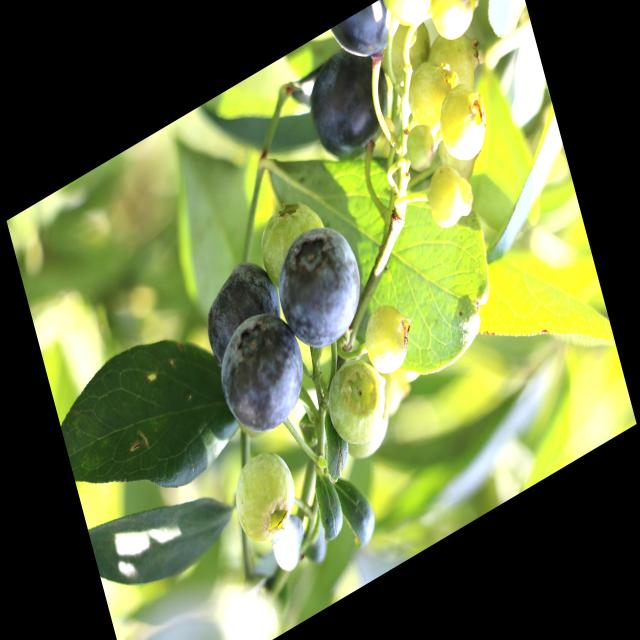blueberry: (265, 208, 377, 370), (210, 300, 314, 448), (300, 35, 397, 176), (191, 243, 288, 366), (331, 0, 403, 75)
blueberry-unripe: (225, 439, 308, 557), (319, 347, 392, 453), (252, 187, 329, 277), (428, 76, 494, 175), (350, 290, 414, 386), (416, 149, 478, 241), (422, 24, 483, 106), (401, 53, 458, 137), (419, 0, 486, 53), (401, 117, 440, 178), (382, 0, 438, 41)
